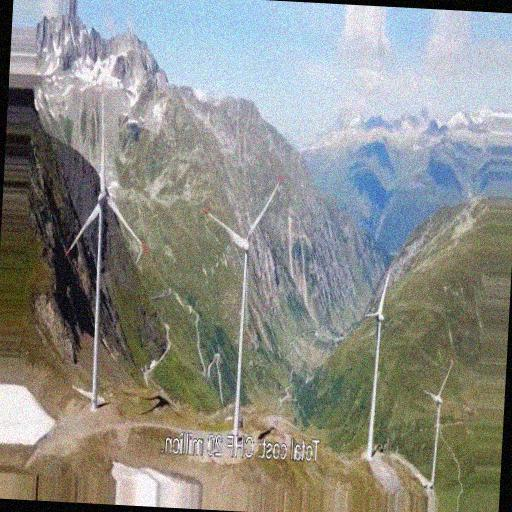wind turbine: (65, 94, 141, 408), (200, 181, 280, 436), (350, 269, 394, 461), (424, 357, 454, 485)
